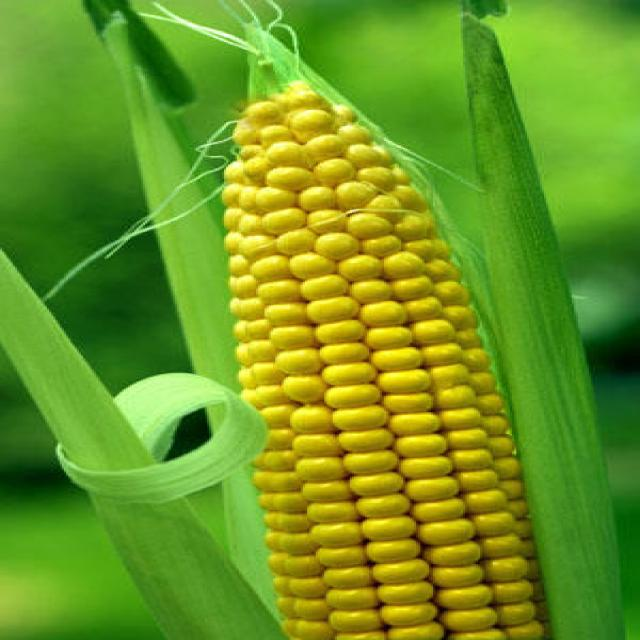Corn ear: (222, 87, 545, 640)
